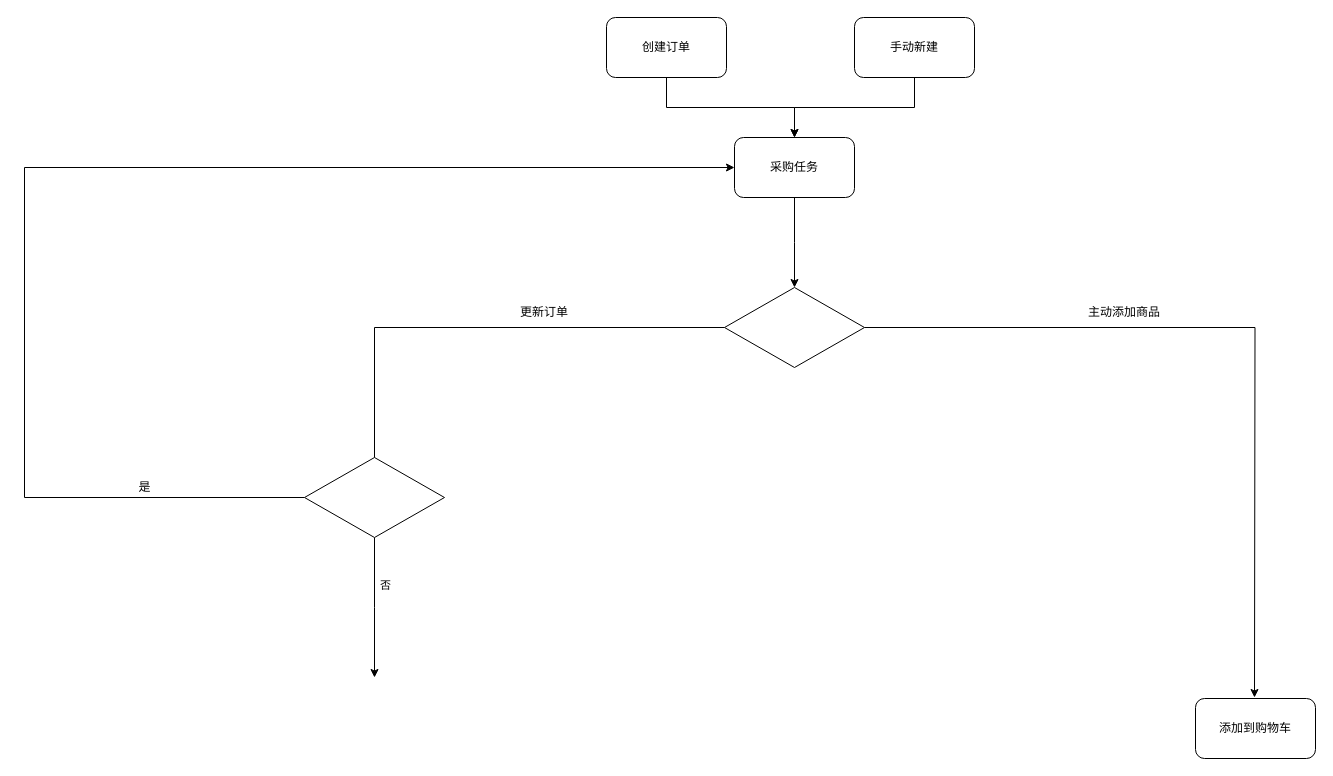
This 1333x776 diagram has some shape labels left out. Here are the shapes that lost their labels. From the top down, the centre of each, then its label:
point (794, 327): 更新采购任务
point (374, 497): 是否是新商品
